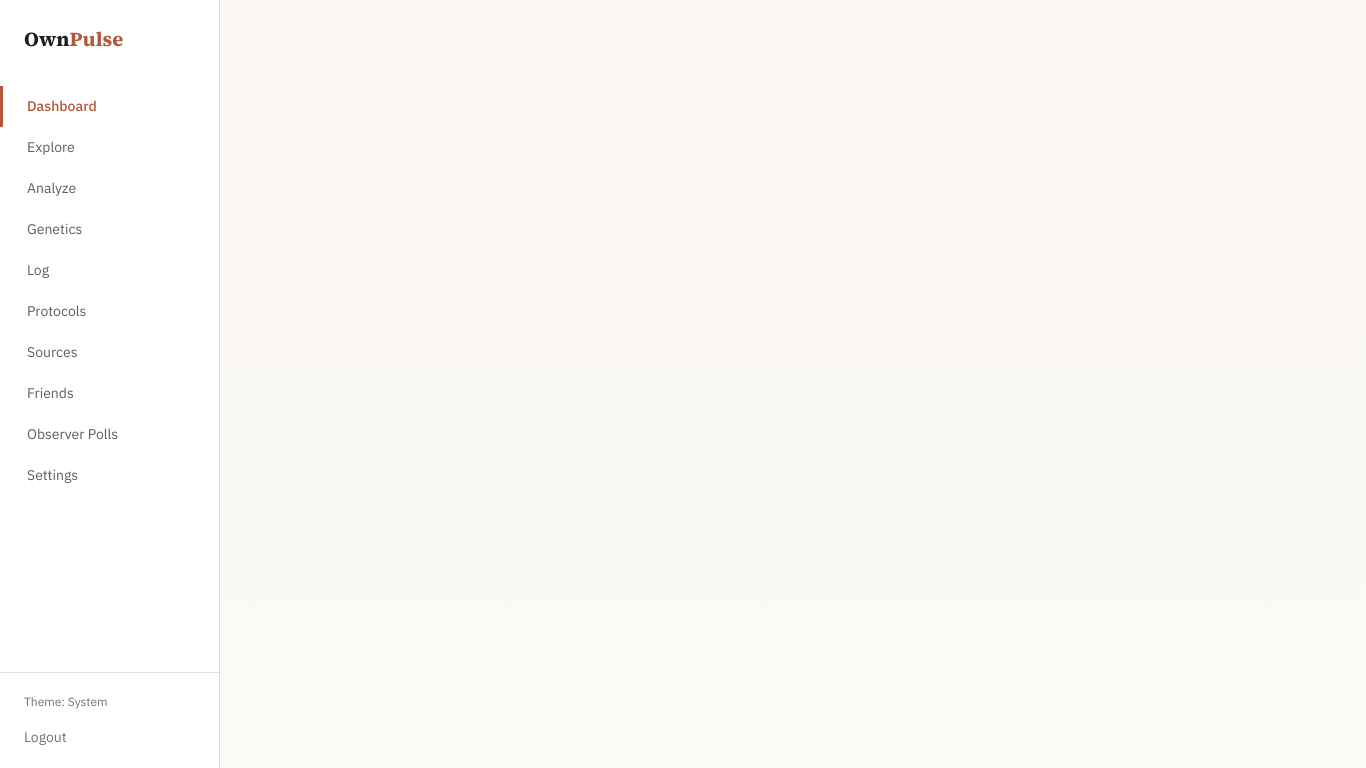
it: Layout › cycles the theme toggle label through light -> dark -> system -> light
Click the button "Theme: System" at point(110, 702), box left=24, top=689, right=195, bottom=715
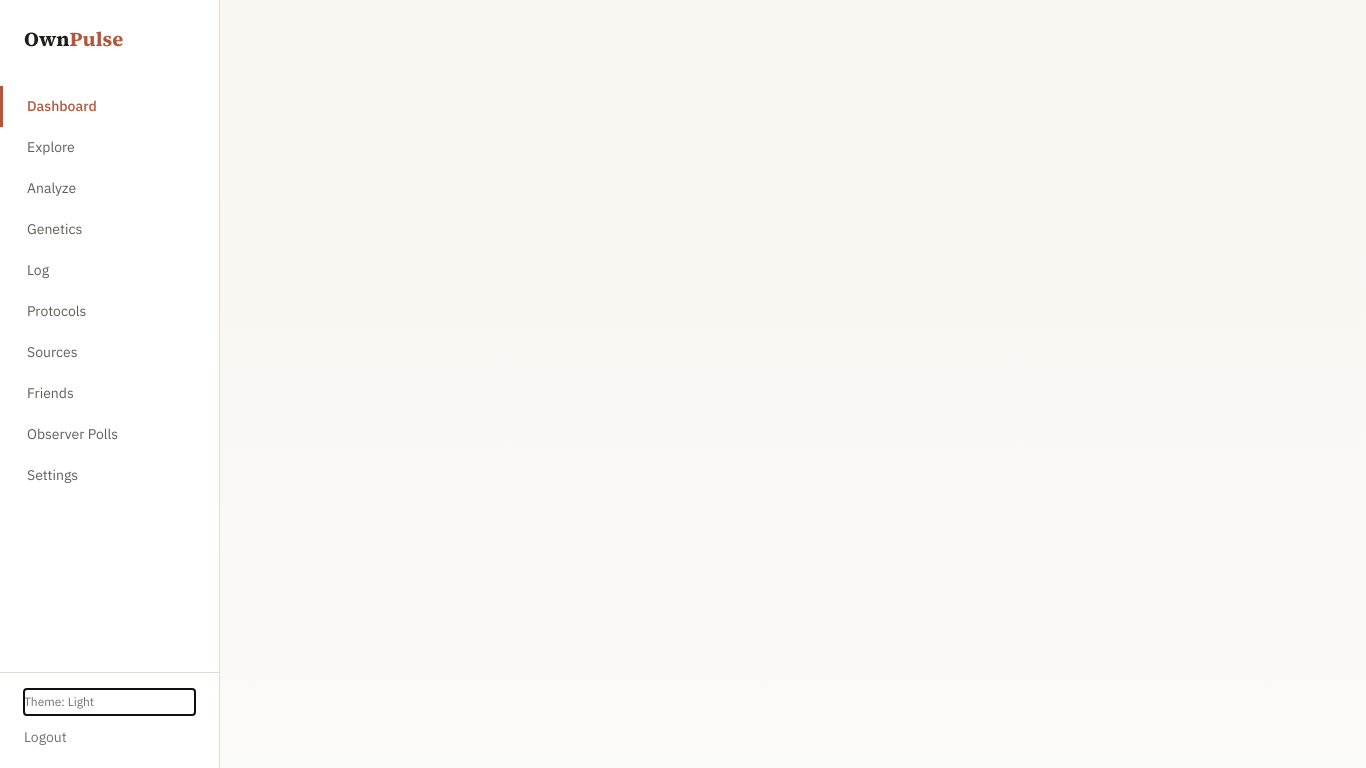
Check: the button "Theme:" no longer shows "Theme: System"
Click the button "Theme: Light" at point(110, 702), box left=24, top=689, right=195, bottom=715
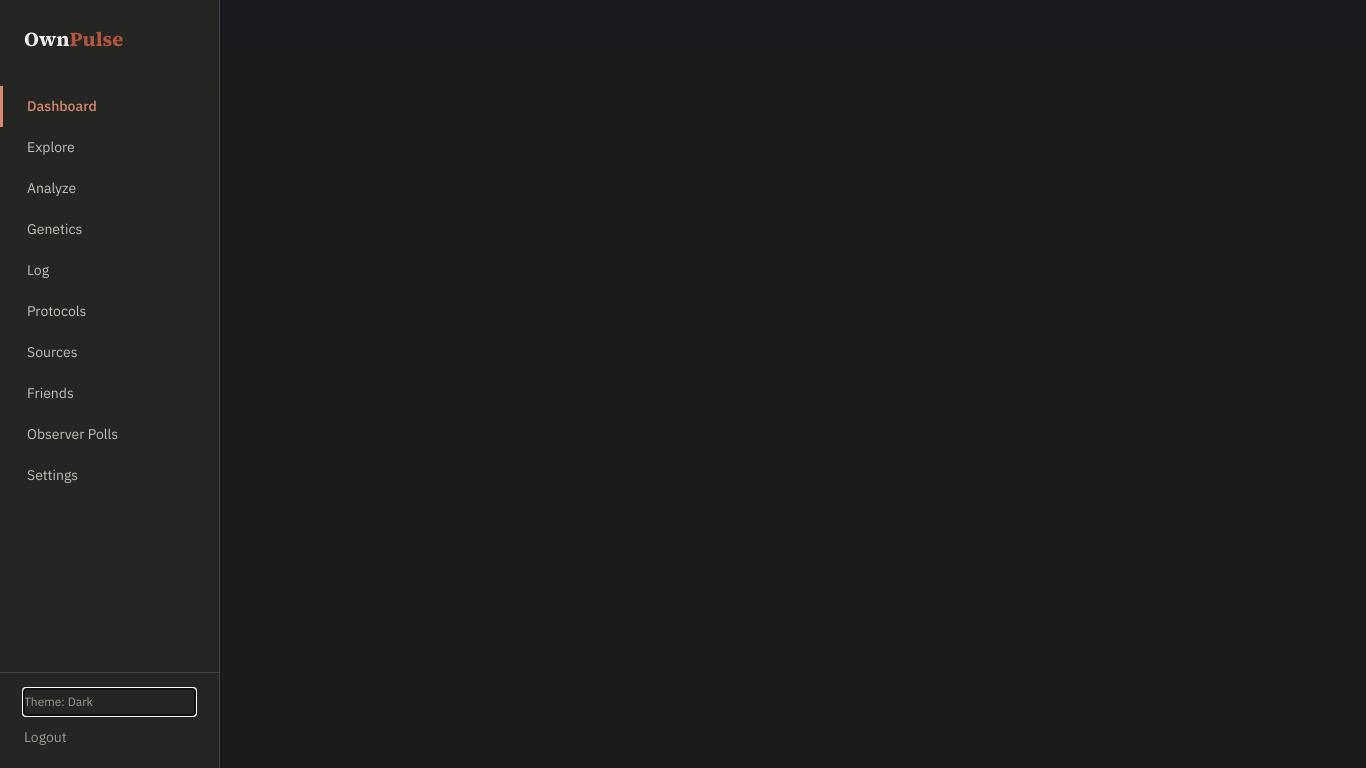
Check: the button "Theme:" no longer shows "Theme: Light"
Click the button "Theme: Dark" at point(110, 702), box left=24, top=689, right=195, bottom=715
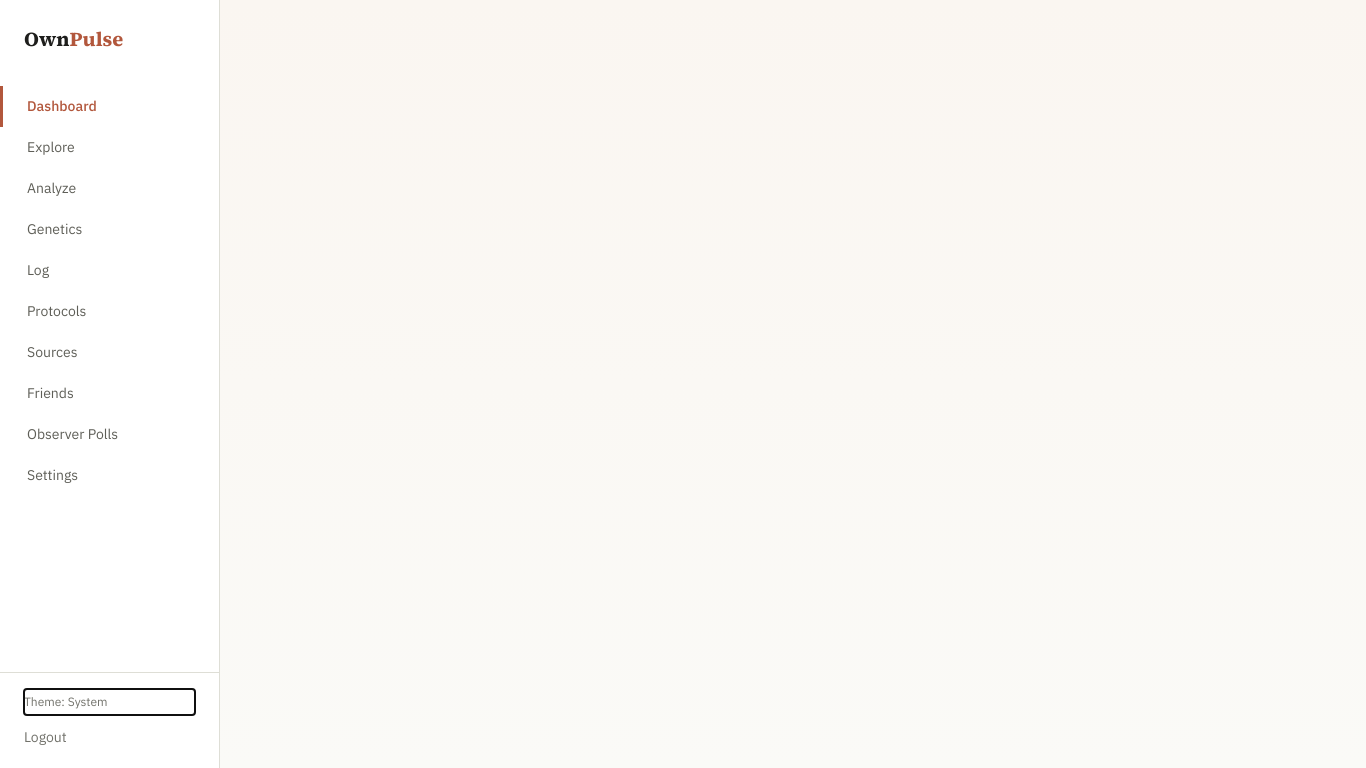
Check: the button "Theme: System" is shown, box left=24, top=689, right=195, bottom=715
